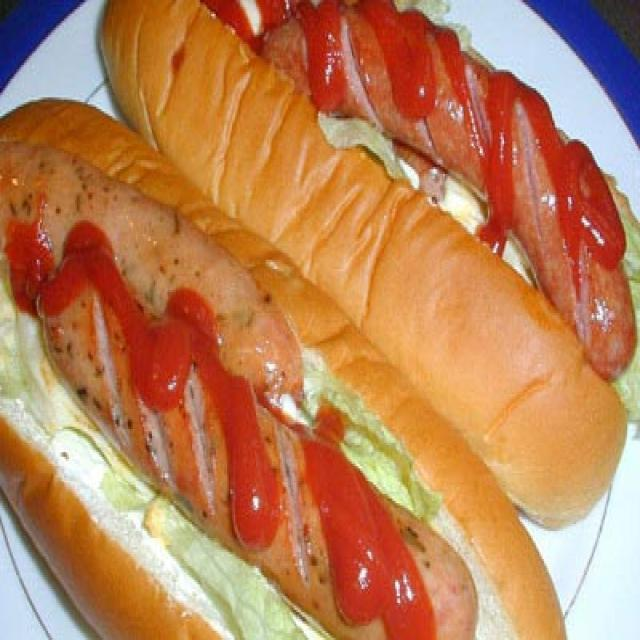Hot Dog: (0, 117, 502, 635)
